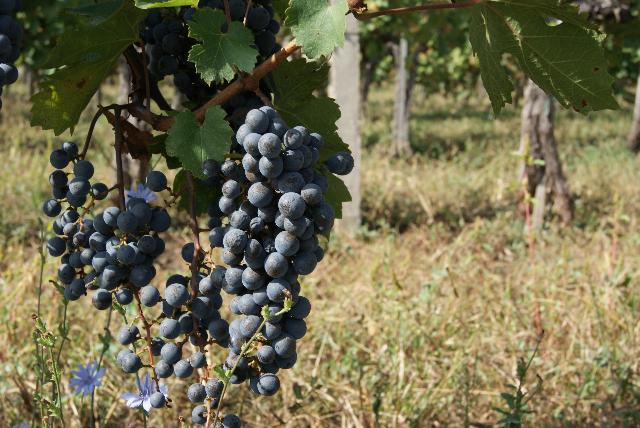grapes: (219, 108, 335, 384), (151, 244, 229, 428), (69, 196, 171, 301), (136, 275, 229, 379), (42, 142, 95, 300)
